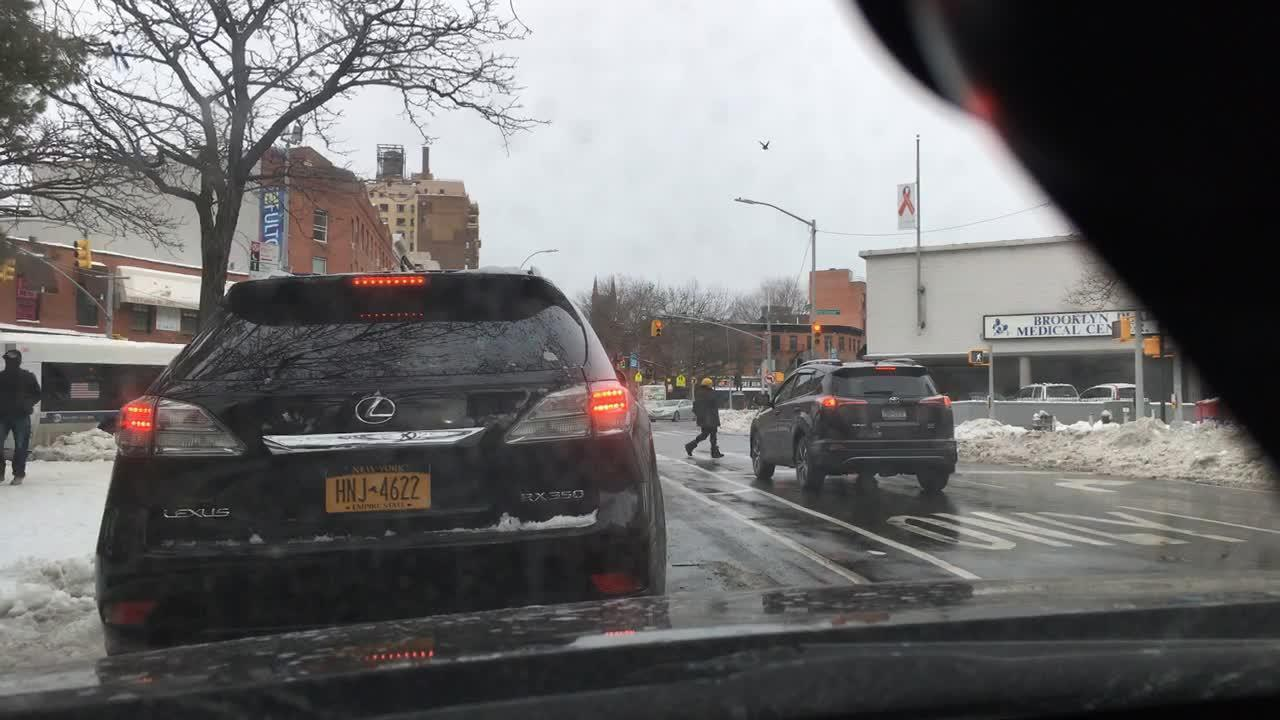Toyota: (886, 395, 904, 405)
lexus: (338, 385, 411, 436)
